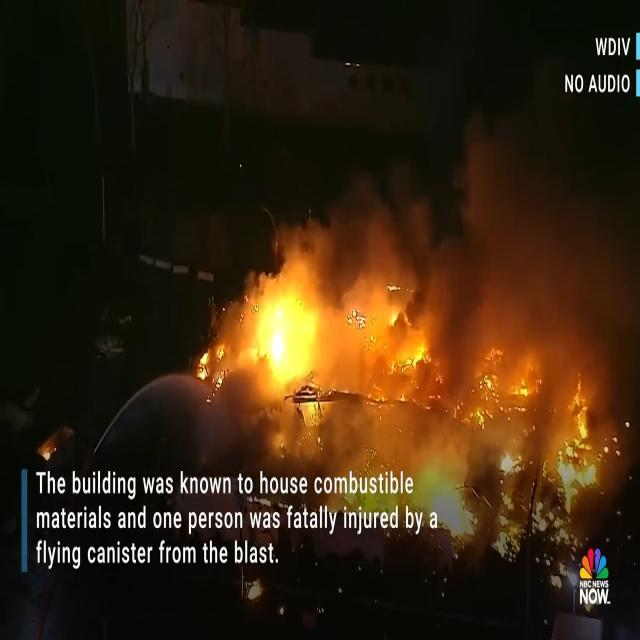fire: (473, 354, 592, 463), (342, 292, 434, 382), (273, 398, 392, 455), (416, 458, 492, 538), (258, 291, 323, 373)
